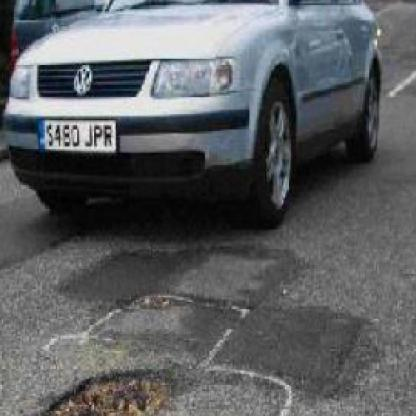pothole: (36, 367, 172, 416), (117, 285, 194, 311)
